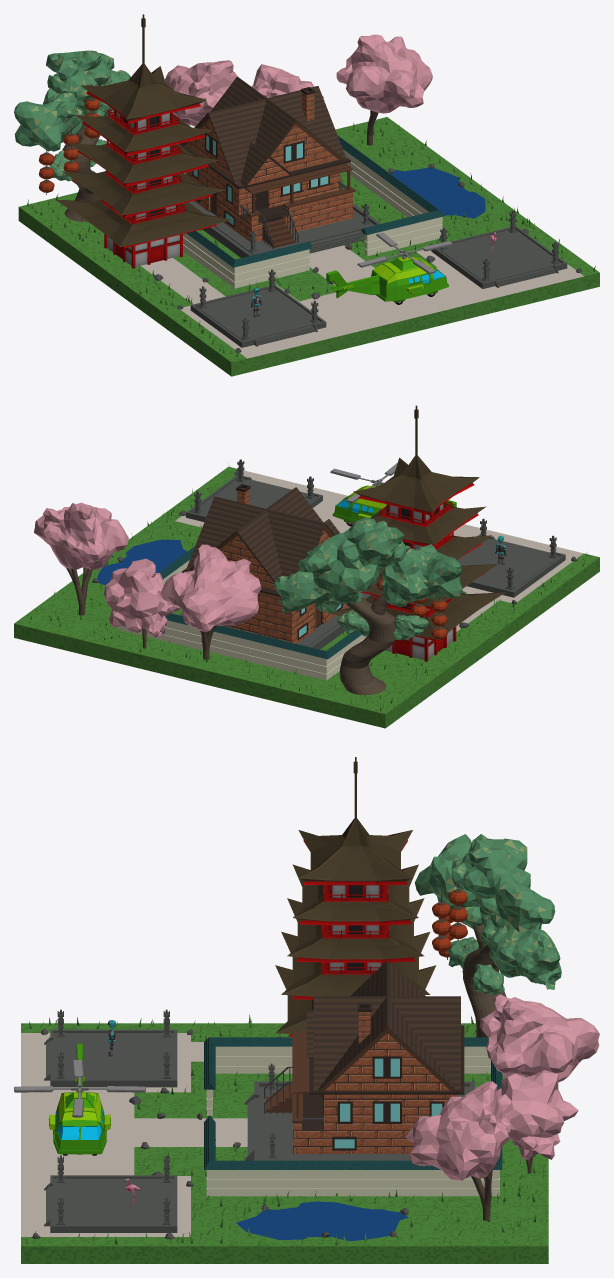
The picture shows the model from 3 angles, top to bottom: view 1: azimuth 30°, elevation 25°; view 2: azimuth 150°, elevation 25°; view 3: azimuth 270°, elevation 25°; orthographic projection. The views are drawn at different scales.
Visible parts, largest first — view 1: Cube.005, Cube.469, VEHICLES_HELICOPTER; view 2: Cube.005, Cube.469, VEHICLES_HELICOPTER; view 3: Cube.005, Cube.469, VEHICLES_HELICOPTER.
Boxes of the visible parts, x1,y1,x2,y2 form: Cube.005: (14, 14, 599, 376); Cube.469: (179, 76, 355, 248); VEHICLES_HELICOPTER: (326, 232, 452, 304); Cube.005: (14, 405, 599, 728); Cube.469: (182, 484, 347, 643); VEHICLES_HELICOPTER: (330, 463, 456, 526); Cube.005: (21, 757, 599, 1263); Cube.469: (264, 961, 464, 1153); VEHICLES_HELICOPTER: (14, 1043, 145, 1155).
Bounding box in the file's own units: 4528 × 2842 × 4442.
41 materials, 6 textured.
